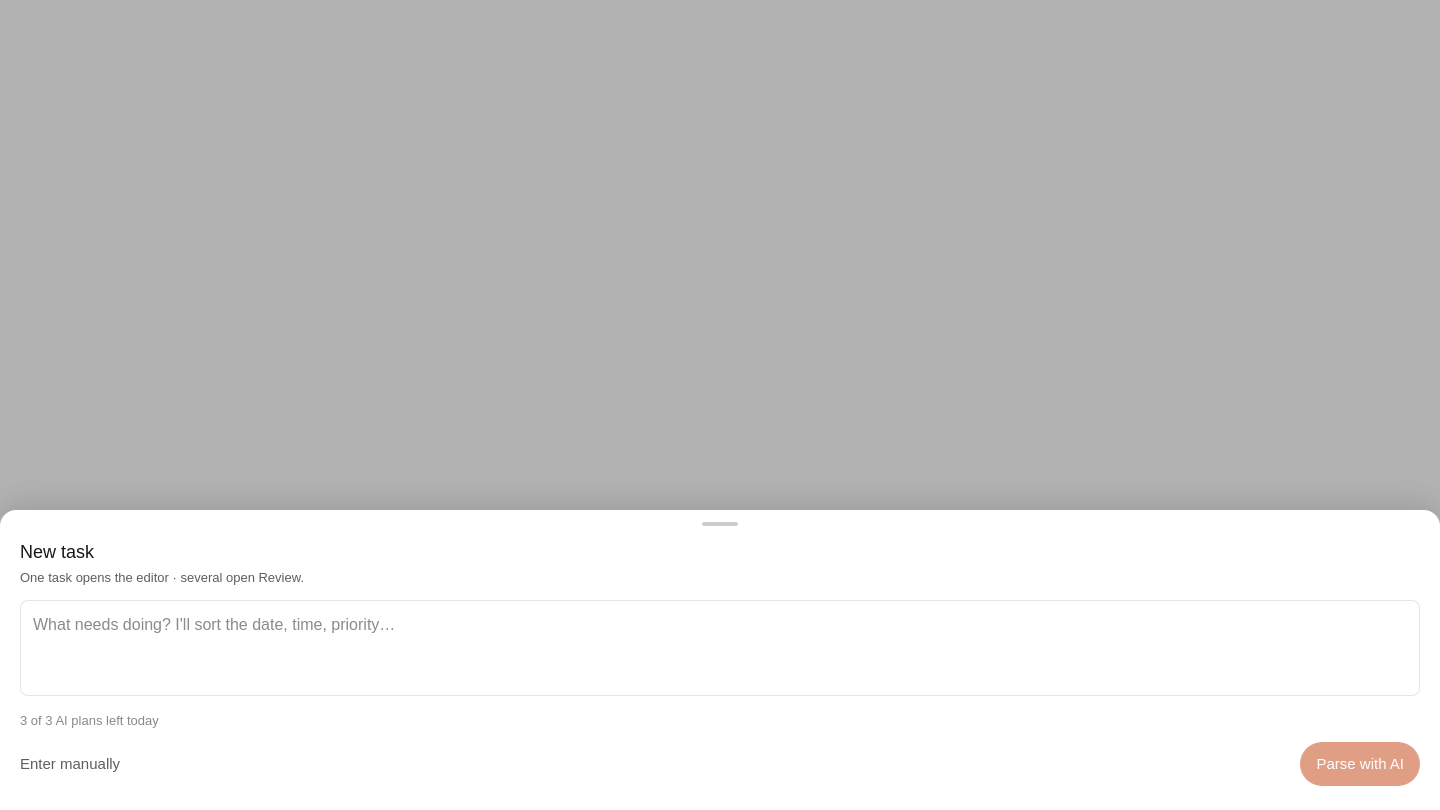
Test: QuickAddSheet › Parse with AI on a single task opens the prefilled editor
The image size is (1440, 810).
Type "book dentist" into the text box named "new task" at coordinates (720, 648), box [20,600,1420,696]
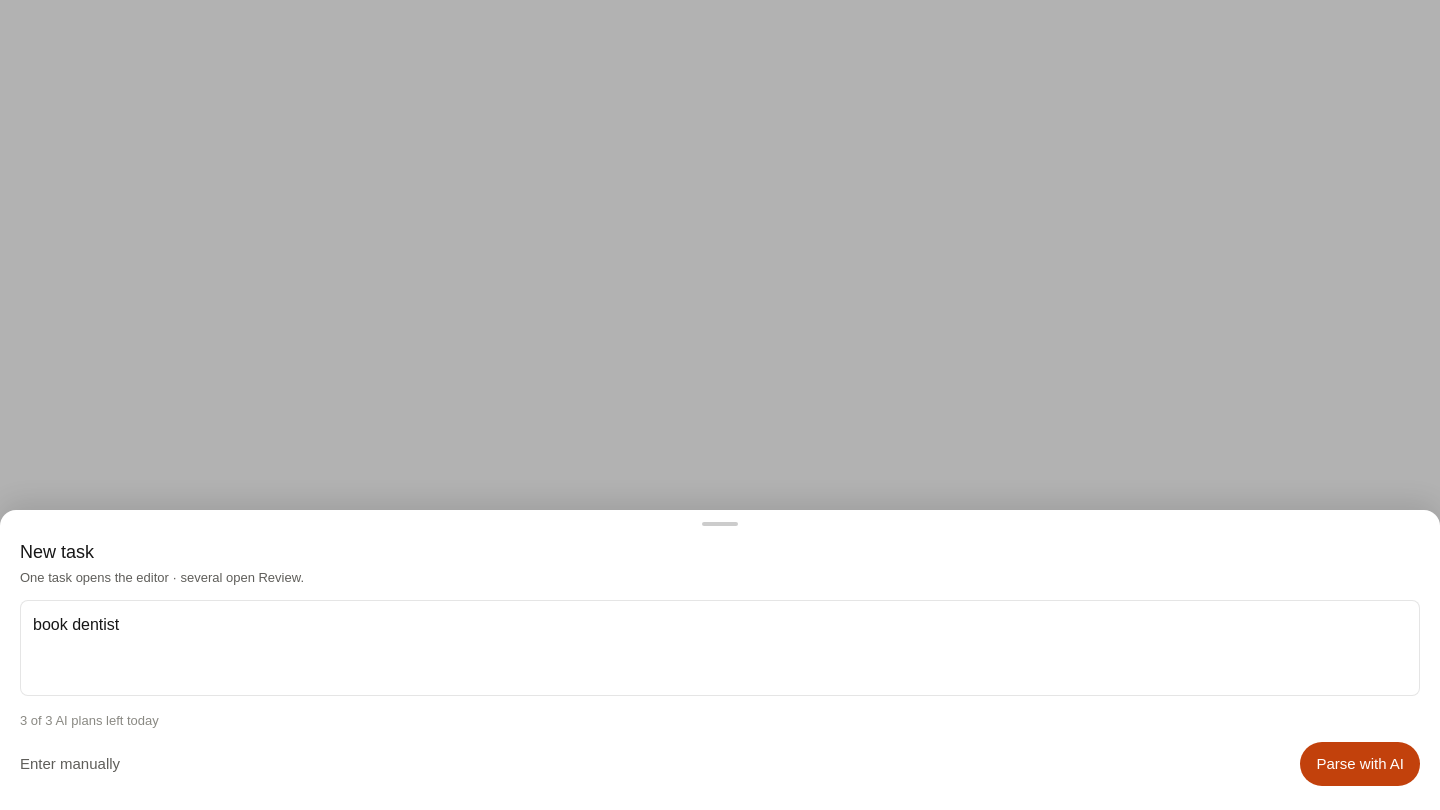
Click the button "Parse with AI" at coordinates (1360, 764), box [1300,742,1420,786]
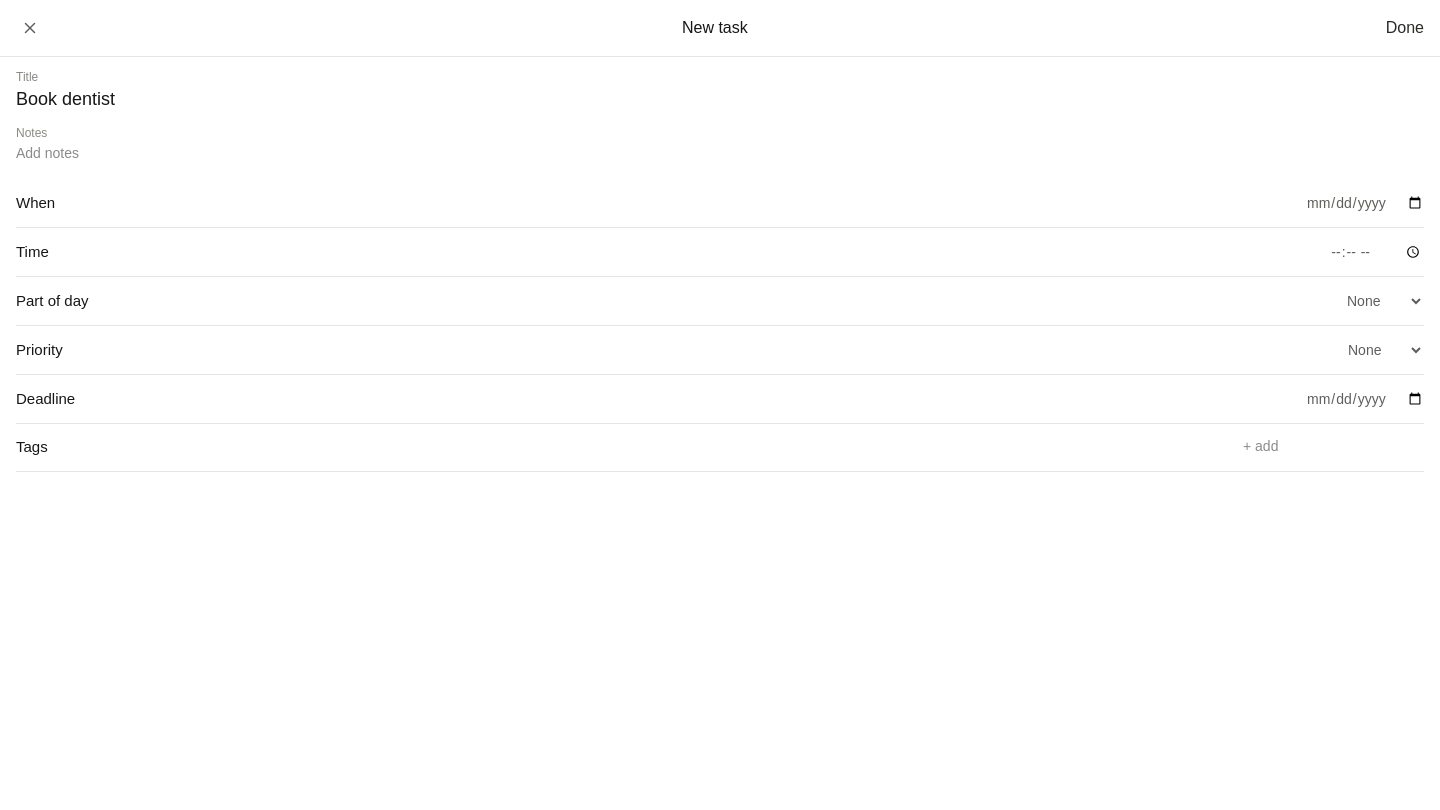
Now the field showing "book dentist" is shown, box [16,85,1424,113]
